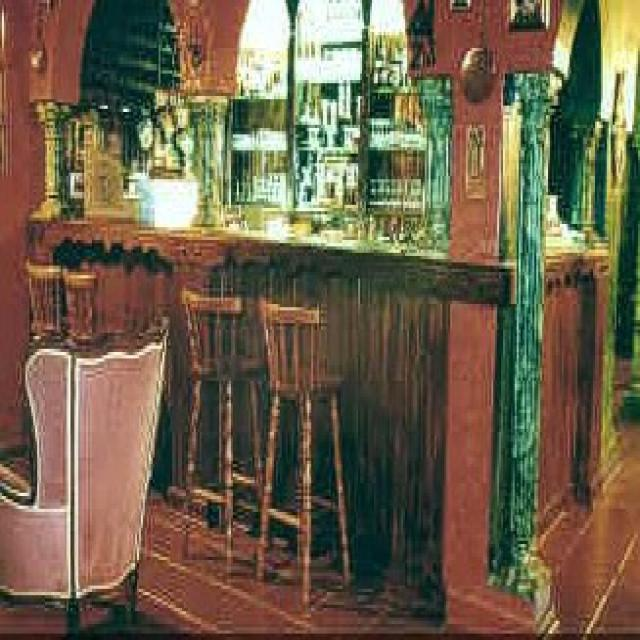armchair occluded: (0, 310, 164, 634)
bar stool: (27, 205, 603, 598)
floor -X: (0, 314, 638, 634)
shelves crop: (221, 0, 450, 227)
stool crop: (254, 294, 350, 598), (180, 288, 262, 550)
wall clock: (402, 0, 636, 445)
